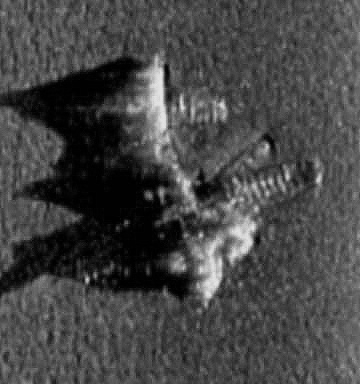plane: (93, 56, 326, 307)
